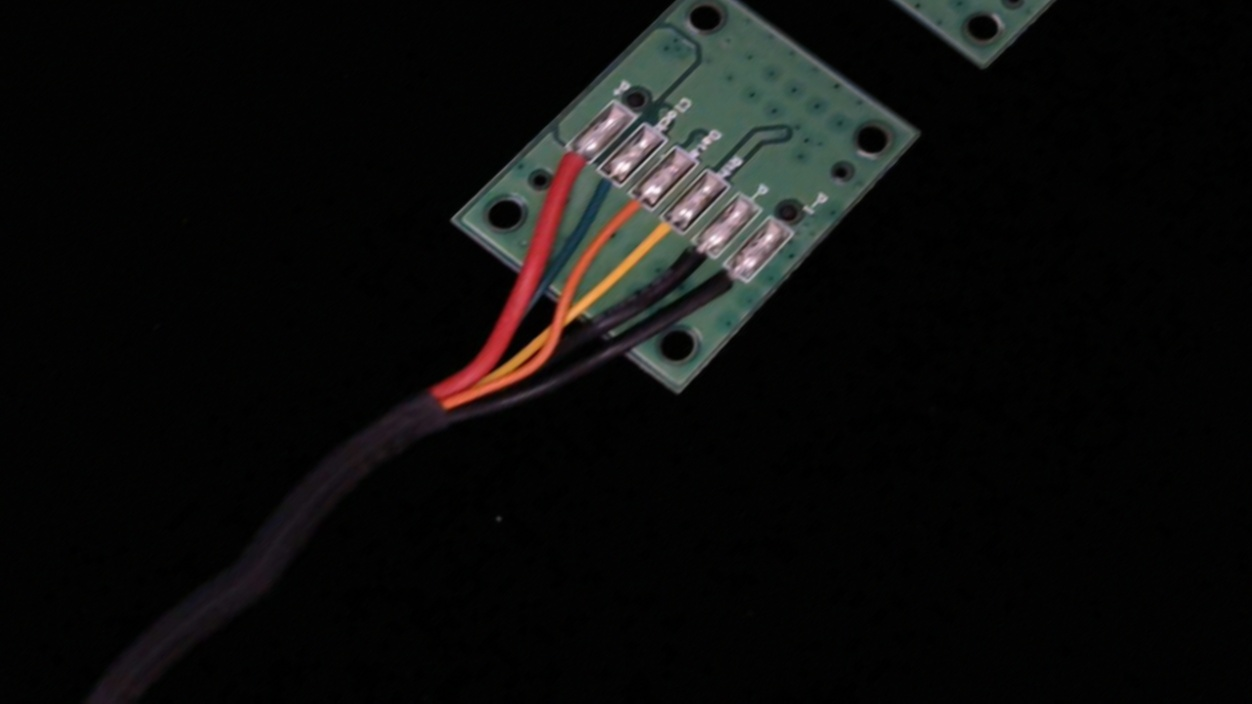Black: (651, 228, 727, 297)
Black1: (683, 254, 758, 323)
Green: (559, 153, 639, 222)
Orange: (588, 181, 666, 249)
Red: (529, 132, 606, 198)
Yellow: (618, 205, 696, 274)
